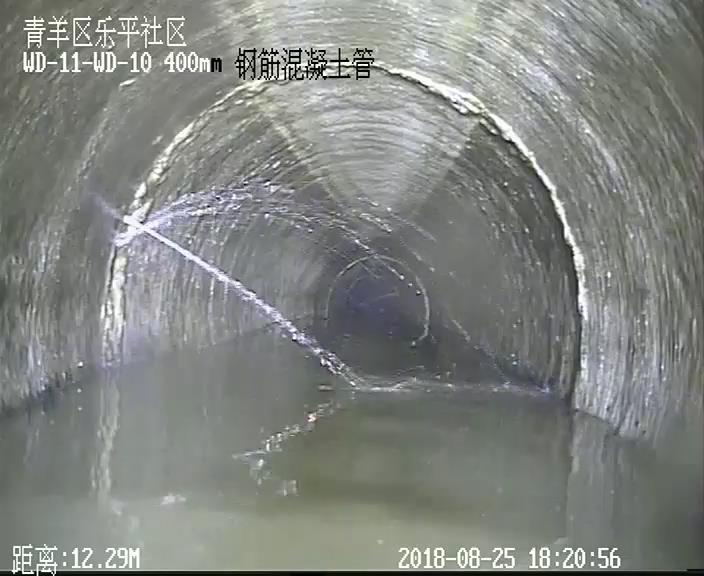SL: (98, 181, 547, 419)
